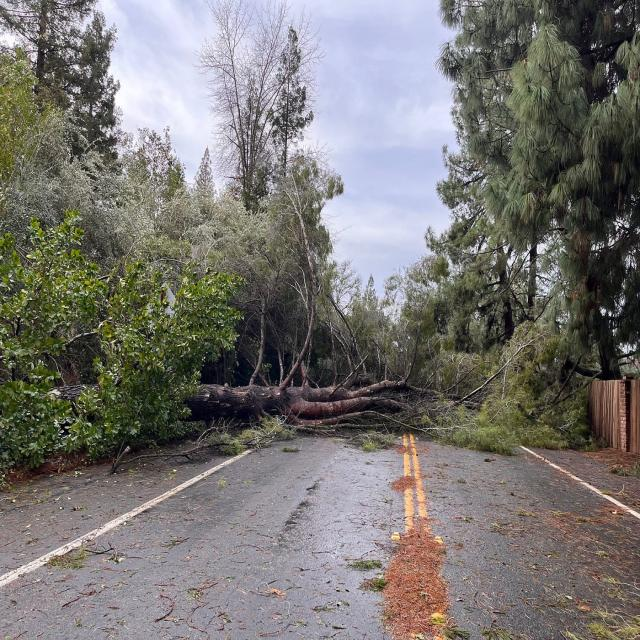fallen_tree: (185, 376, 433, 440)
